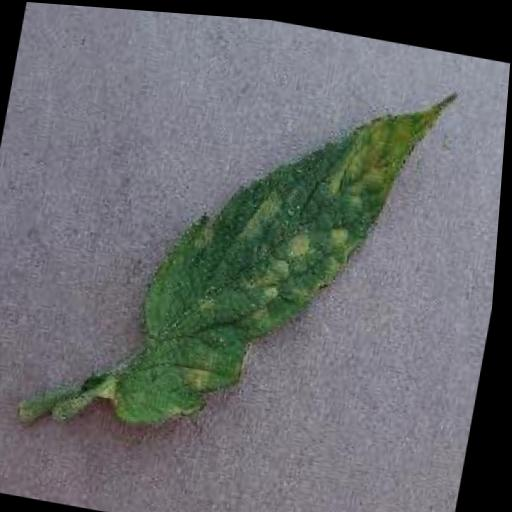Leaf Mold: (112, 54, 445, 461)
